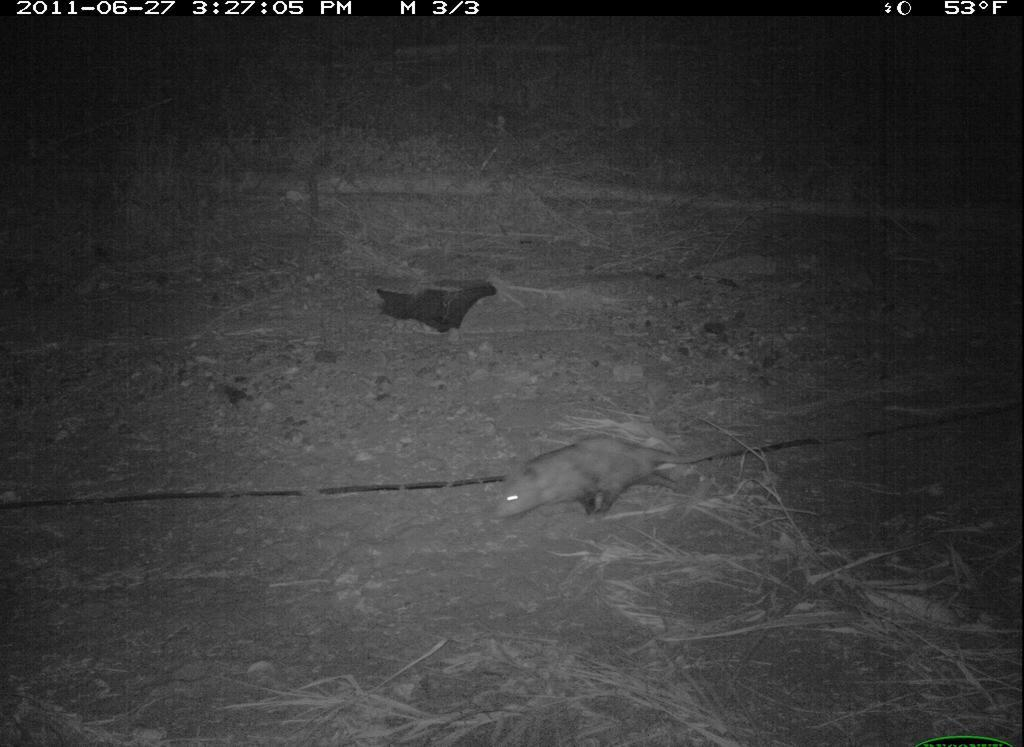opossum: (491, 428, 776, 537)
